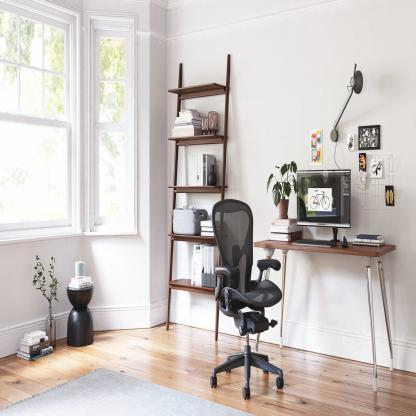chair: (198, 195, 291, 403)
light: (319, 60, 367, 145)
table: (256, 232, 403, 392), (65, 255, 98, 349)
